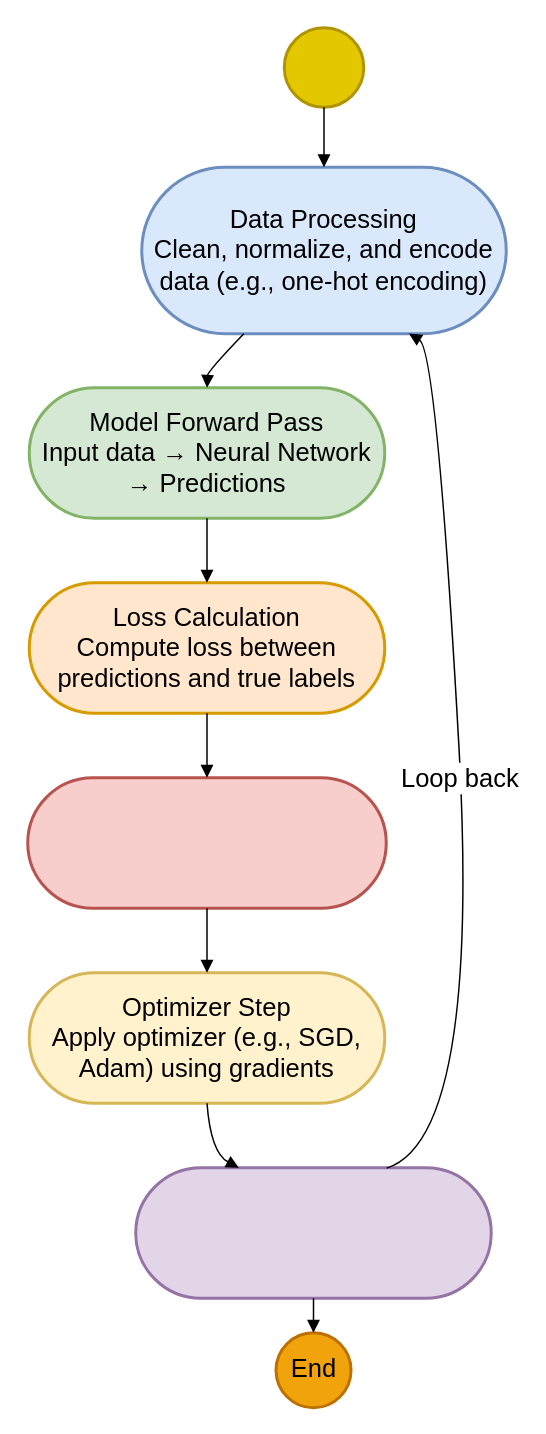
Image size: 546x1434. Some labels were removed from this diagram. Each missing label, with the centre of its shape:
Backpropagation Compute gradients of loss w.r.t. model parameters: pixel 206 842
Start: pixel 323 67
Weight Update Update model parameters to minimize loss: pixel 313 1232
